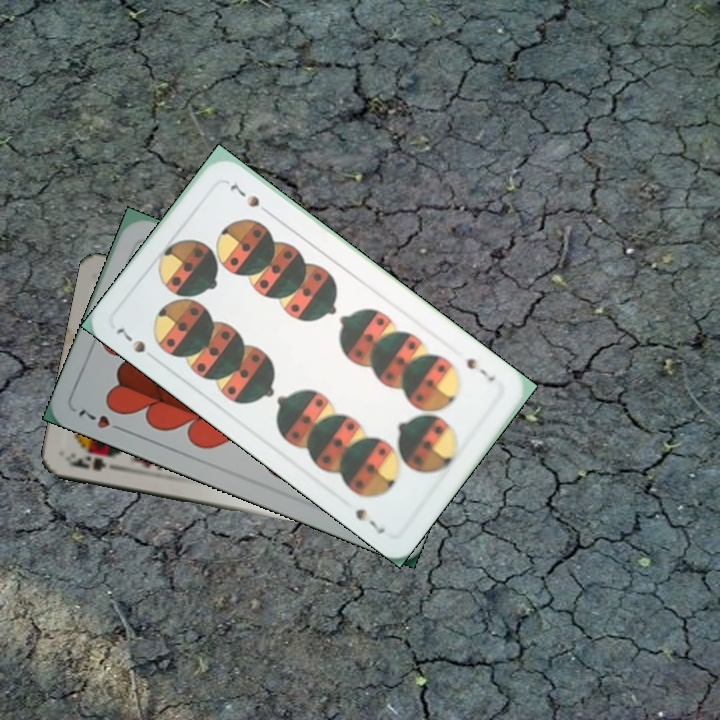H7: (74, 405, 129, 435)
S7: (111, 324, 148, 356), (462, 354, 498, 384)
SK: (64, 447, 124, 474)
